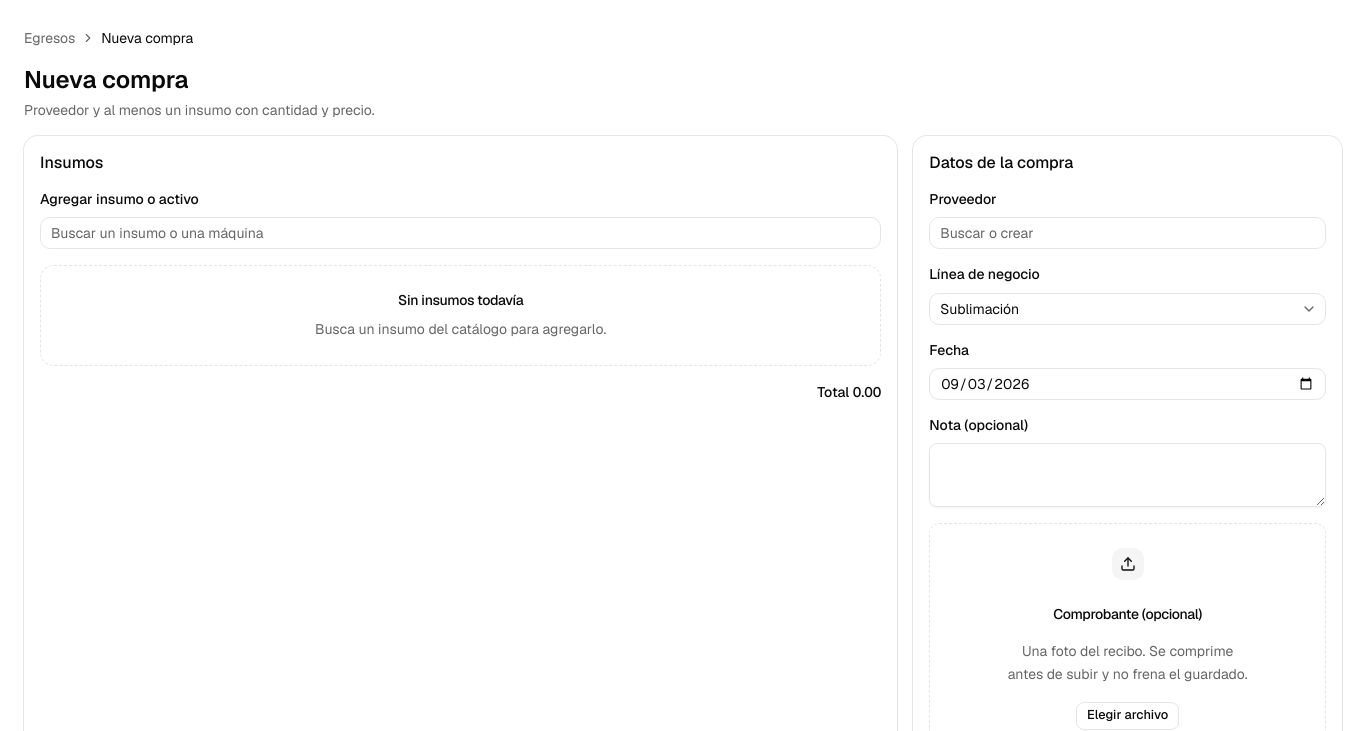
Scenario: PurchaseForm · comprar una máquina (KAM-19) › tras guardar, ofrece declarar el activo con costo y fecha prellenados
Type "Distri" into the field labelled "Proveedor" at (1128, 233), box x1=929 y1=217 x2=1326 y2=249
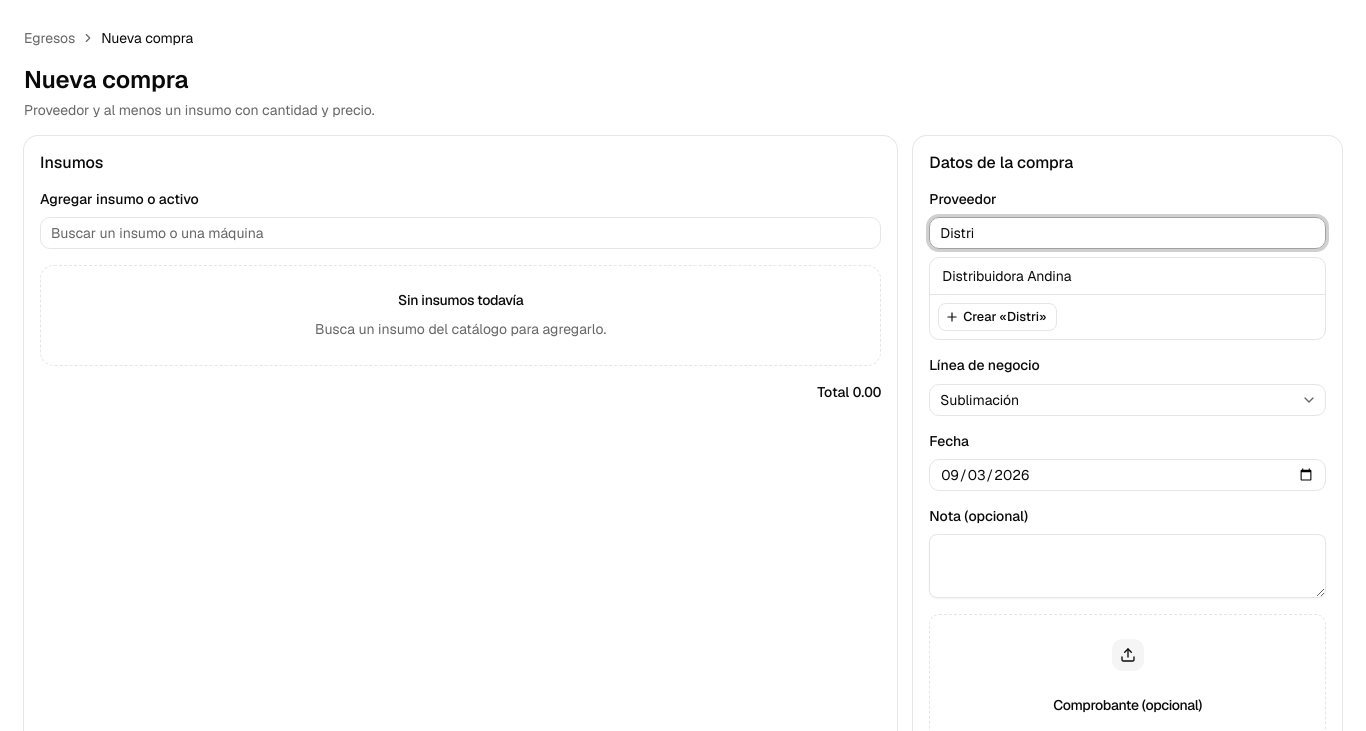
Click the button "Distribuidora Andina" at (1007, 276), box x1=930 y1=258 x2=1325 y2=294
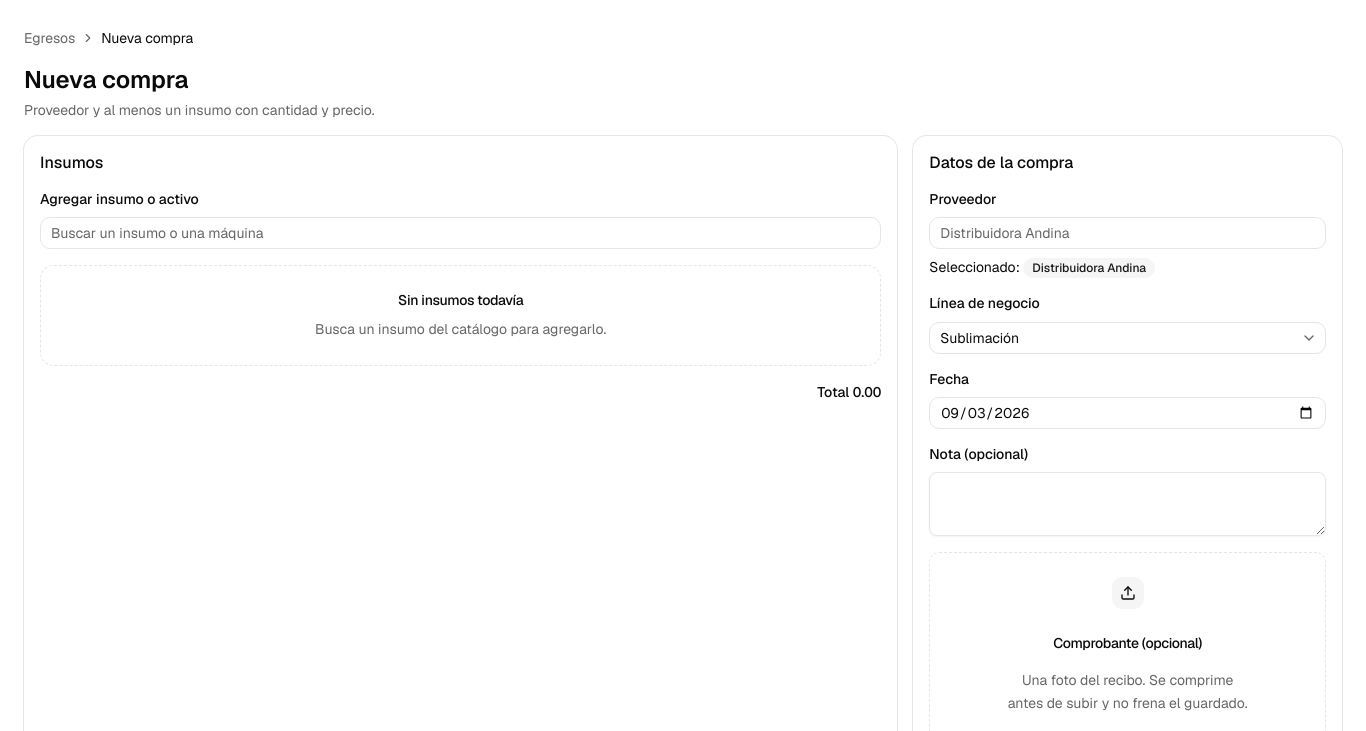
Type "Impresora" into the field labelled "Agregar insumo o activo" at (461, 233), box x1=40 y1=217 x2=881 y2=249
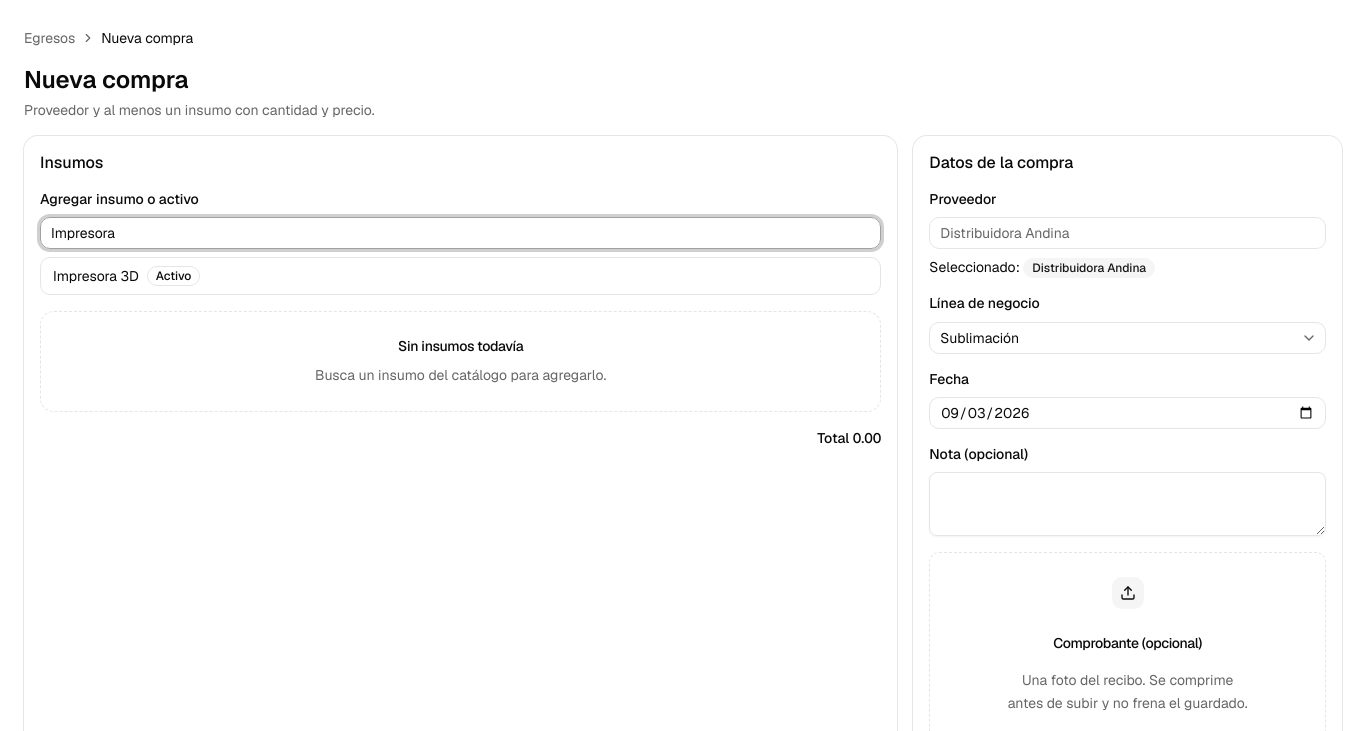
Click the button "Impresora 3D Activo" at (96, 276), box x1=41 y1=258 x2=880 y2=294
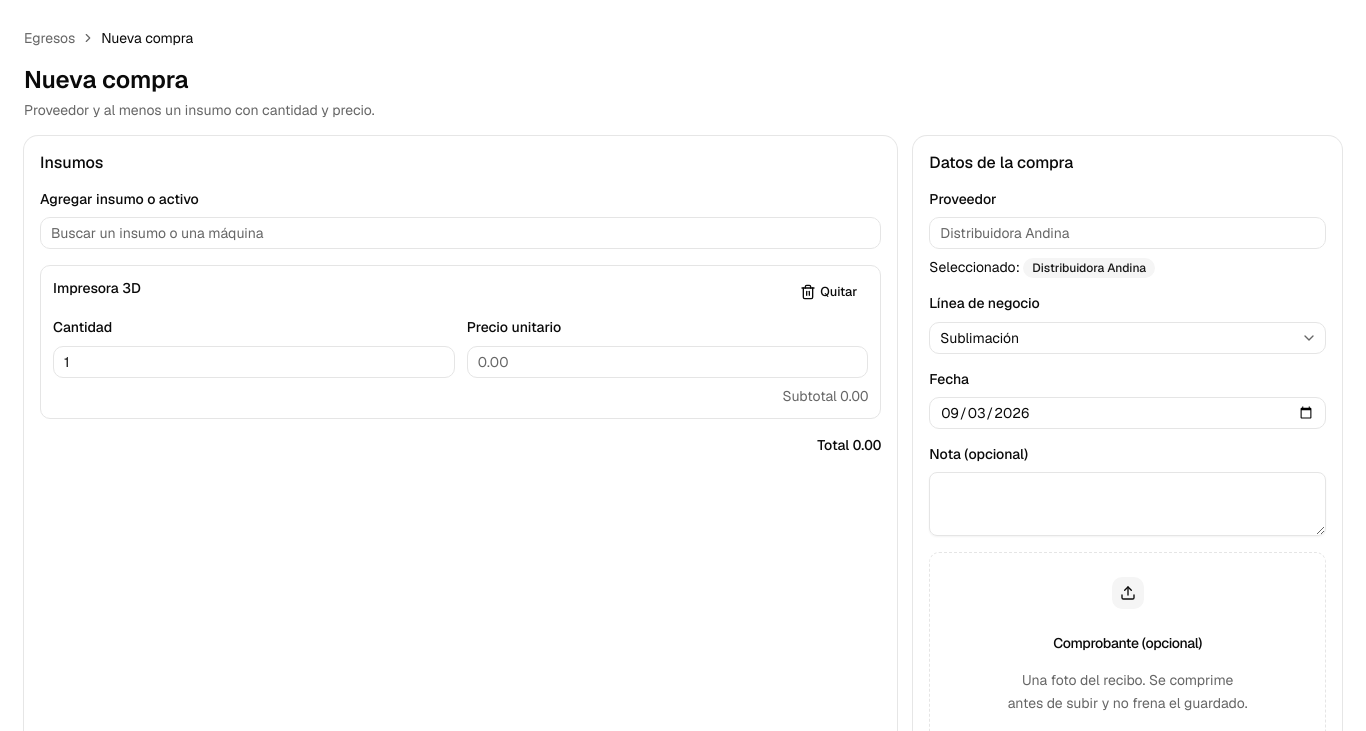
Type "7000" into the number field labelled "Precio unitario" at (668, 362), box x1=467 y1=346 x2=868 y2=378
(page scrolled)
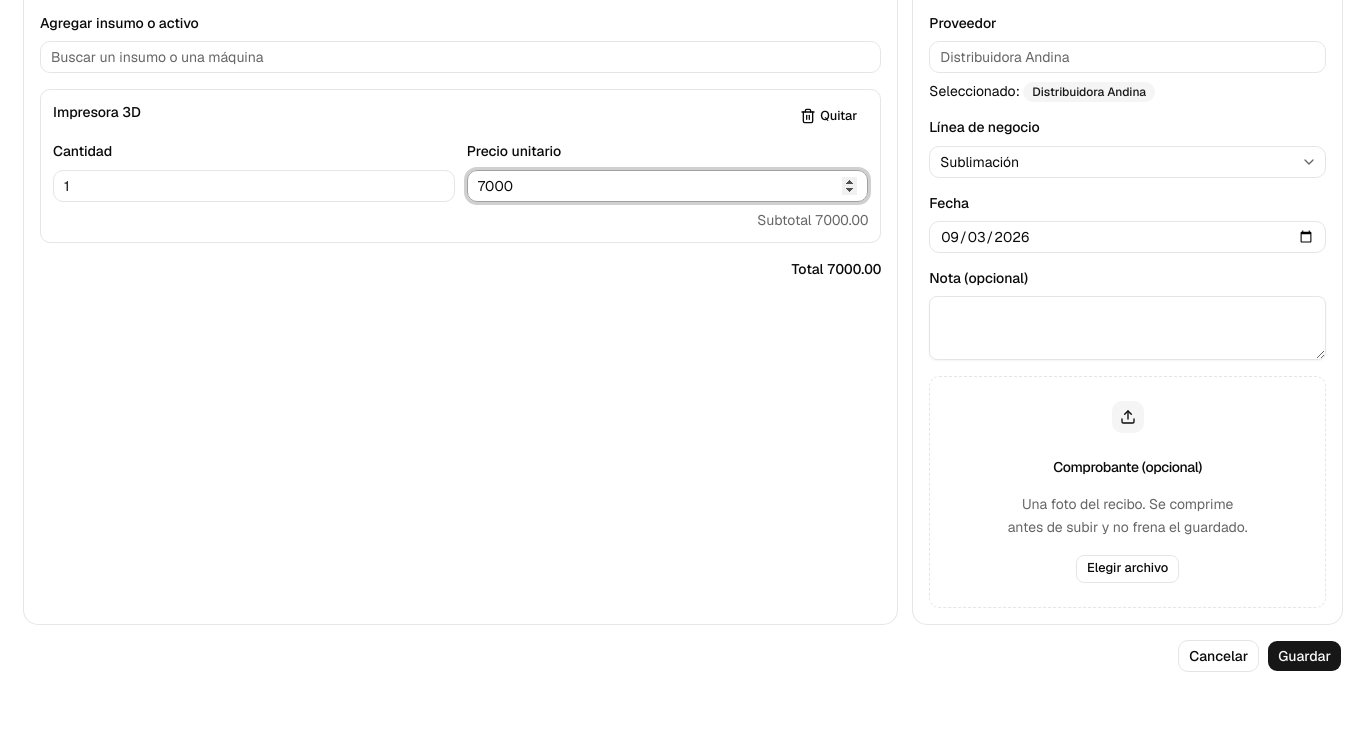
Click the button with test id "save-purchase" at (1305, 656), box x1=1267 y1=640 x2=1342 y2=672
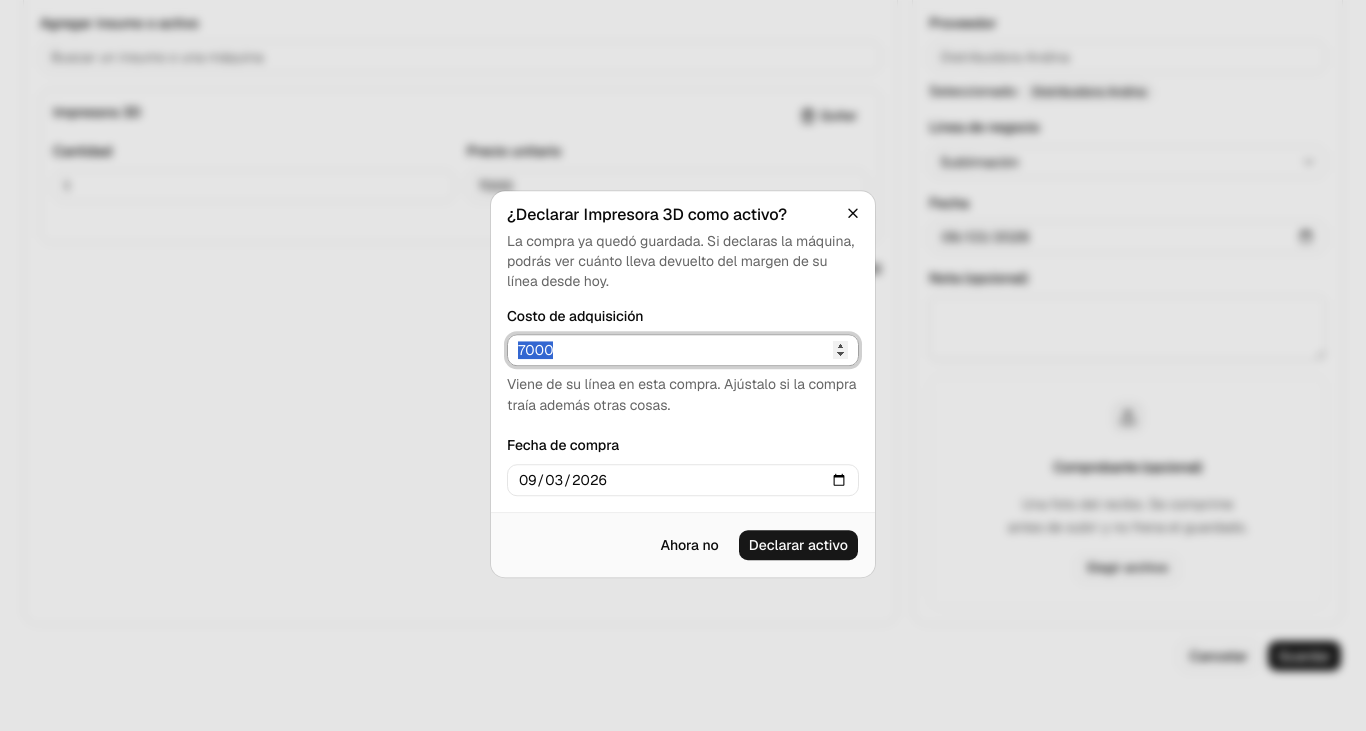
Now the number field labelled "Costo de adquisición" holds "7000", box x1=507 y1=334 x2=859 y2=366
Now the date field labelled "Fecha de compra" holds "2026-09-03", box x1=507 y1=464 x2=859 y2=496
